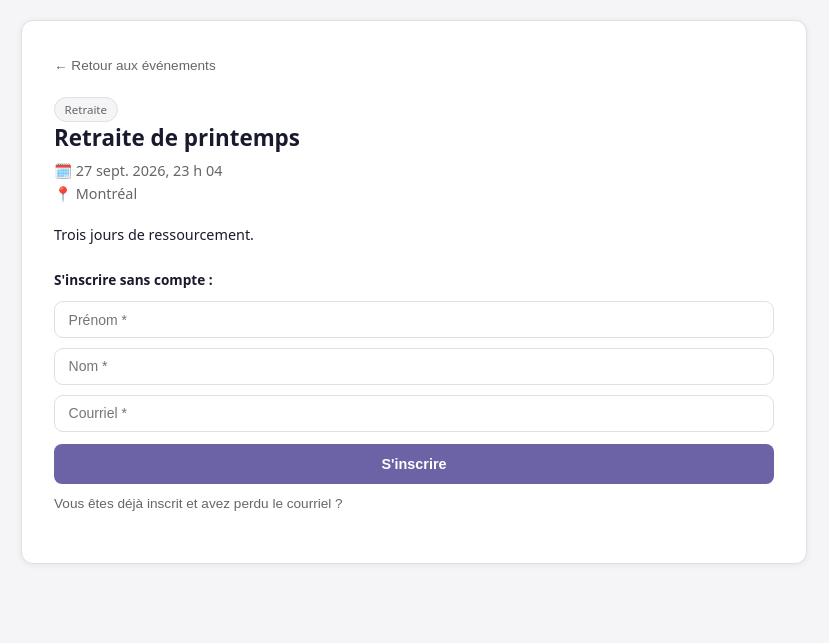
Test case: EventDetailPage — inscription d'un invité › refuse l'envoi tant qu'un champ requis est vide
Check: the heading "Retraite de printemps" is shown, box [54,122,300,153]
Type "Marie" into the field with placeholder "Prénom *".
click(414, 320); type("Marie")  # box [54,301,774,338]
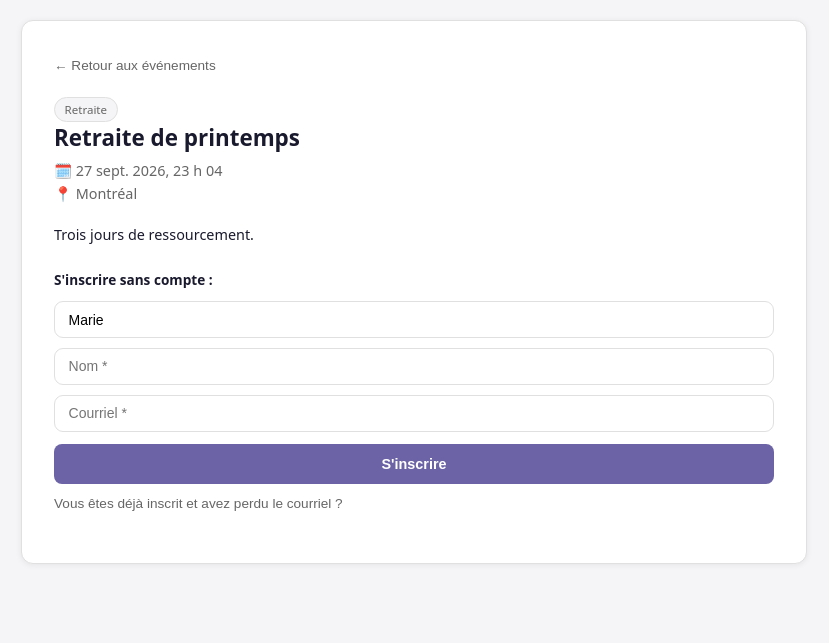
Submit the form, box [54,270,774,484]
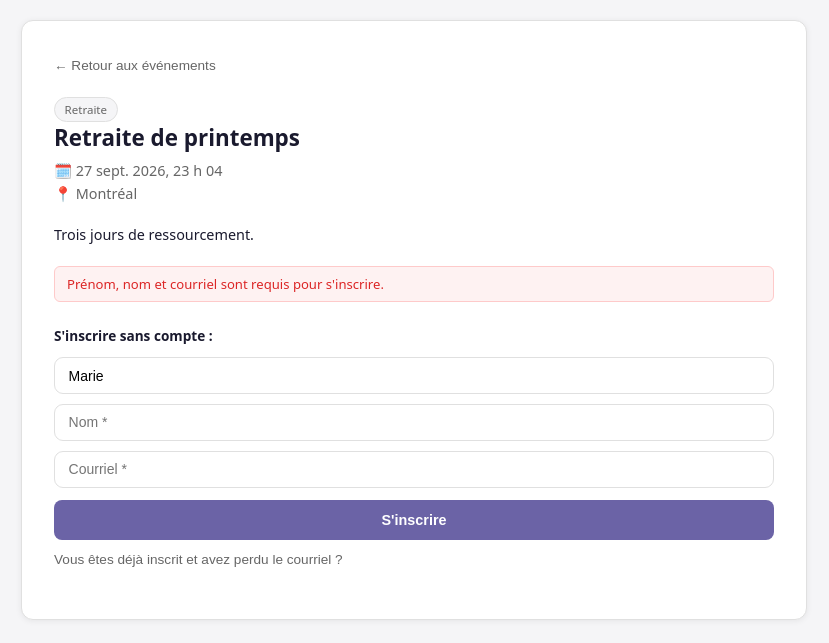
Check: the message shows "Prénom, nom et courriel sont requis", box [67,275,384,293]
